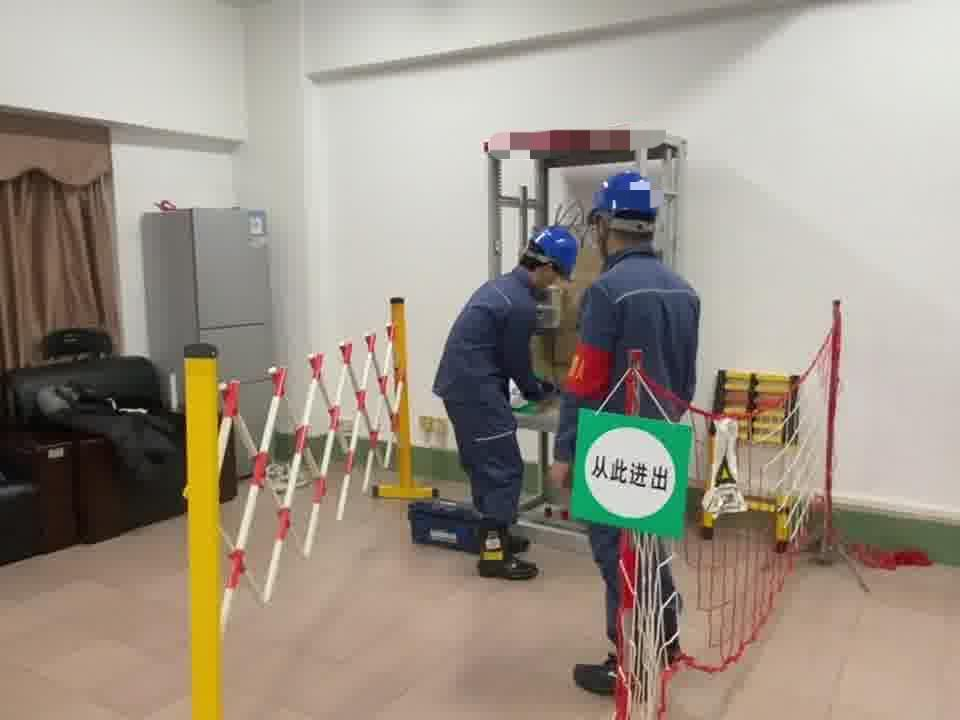halt: (591, 174, 664, 254), (520, 228, 582, 289)
inear: (592, 215, 618, 254)
